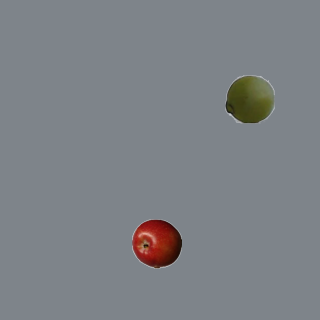Apple Braeburn: (131, 218, 181, 268)
Grape White 4: (224, 73, 274, 123)
